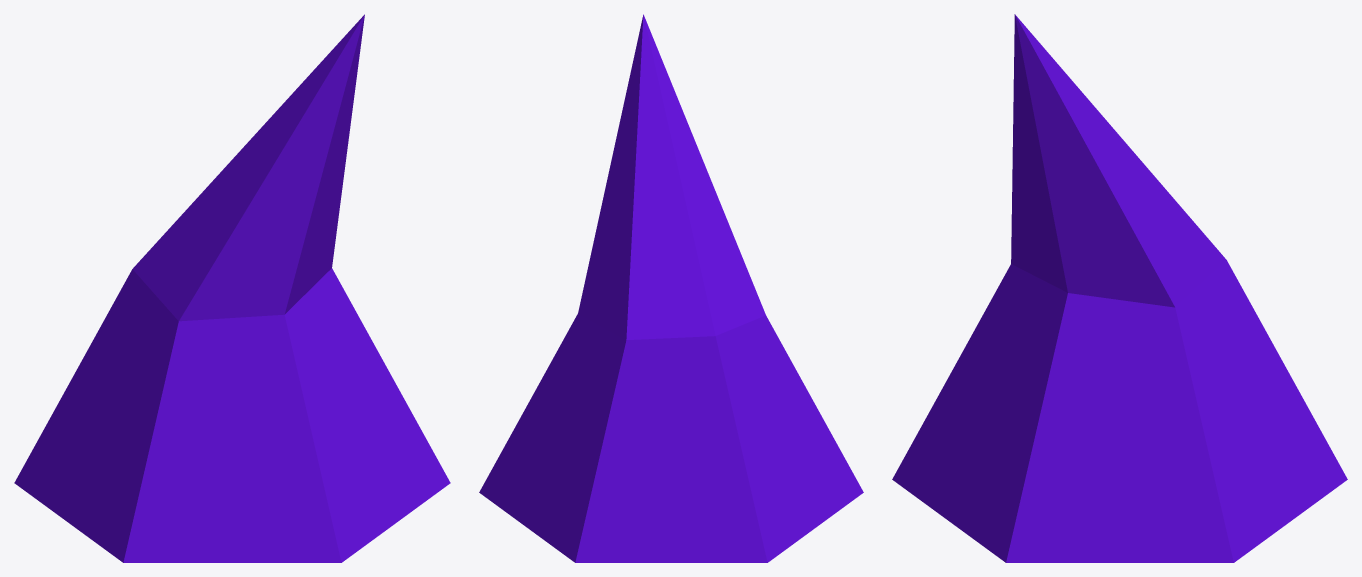
Rendered from CrookedShort.fbx.
3 renders of one model, left to right at view 1: azimuth 30°, elevation 25°; view 2: azimuth 150°, elevation 25°; view 3: azimuth 270°, elevation 25°, orthographic. The views are drawn at different scales.
Parts seen in each view (by area): view 1: Cone; view 2: Cone; view 3: Cone.
Part boxes in pixels (x1,y1,x2,y2): Cone: (14,14,450,562); Cone: (479,14,863,562); Cone: (892,14,1347,562).
Bounding box in the file's own units: 173 × 246 × 200.
